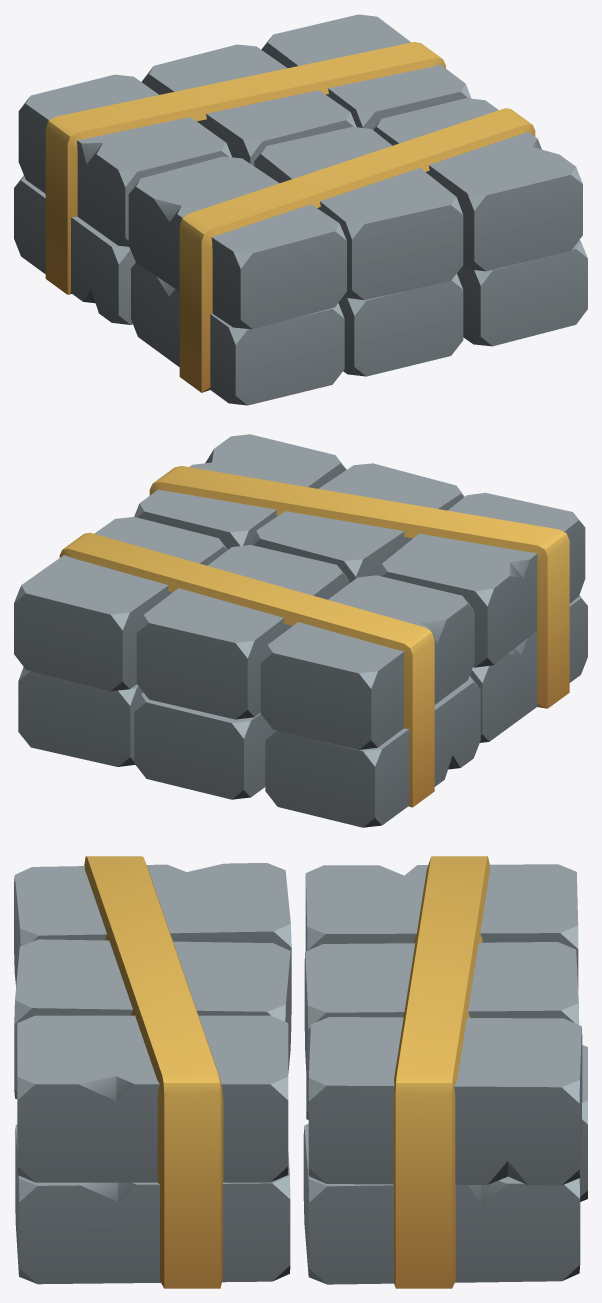
The model's file is stone_bricks_stack_medium.glb.
The picture shows the model from 3 angles, top to bottom: view 1: azimuth 30°, elevation 25°; view 2: azimuth 150°, elevation 25°; view 3: azimuth 270°, elevation 25°; orthographic projection. The views are drawn at different scales.
Visible parts, largest first — view 1: Stone_Bricks_Stack_Medium; view 2: Stone_Bricks_Stack_Medium; view 3: Stone_Bricks_Stack_Medium.
Part boxes in pixels (x1,y1,x2,y2): Stone_Bricks_Stack_Medium: (14,14,587,405); Stone_Bricks_Stack_Medium: (14,434,587,827); Stone_Bricks_Stack_Medium: (14,856,587,1288).
Size of the model in its own units: 0.9037 by 0.3799 by 0.9528.
1 material, 1 textured.
